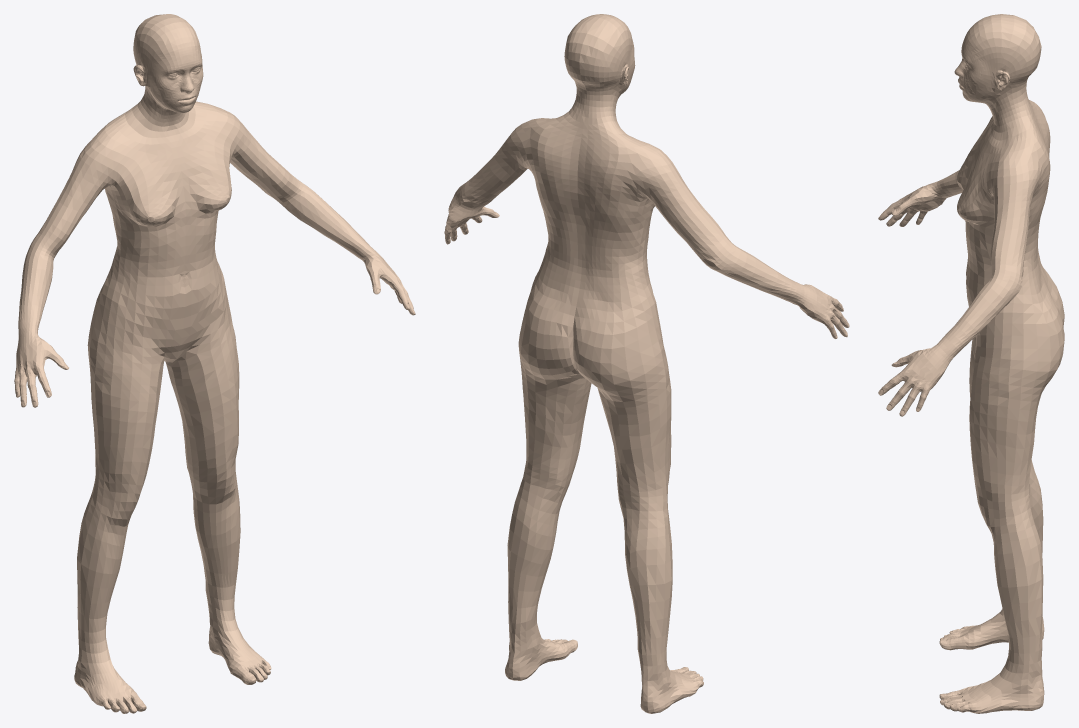
File: female-mature-average-medium.glb
3 views of the same model, side by side, from view 1: azimuth 30°, elevation 25°; view 2: azimuth 150°, elevation 25°; view 3: azimuth 270°, elevation 25° (orthographic).
Visible parts, largest first — view 1: world; view 2: world; view 3: world.
Boxes of the visible parts, box(x1,y1,x2,y2) form: world: box(14, 14, 415, 713); world: box(444, 14, 849, 713); world: box(878, 14, 1064, 713).
Bounding box in the file's own units: 1.12 × 1.81 × 0.464.
